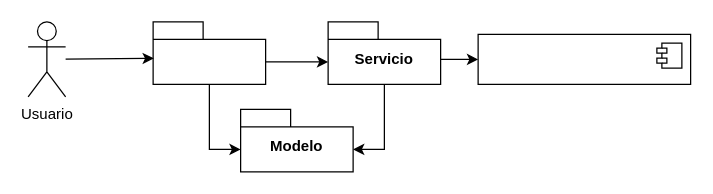
The diagram is 713 pixels wide and 194 high, and some of its shapes have lost their labels. Here are the shapes that lost their labels. From the top down, the box of each, then its label:
(152, 21, 266, 84): Componente
(477, 33, 691, 84): «Sistema externo» Backend API REST
